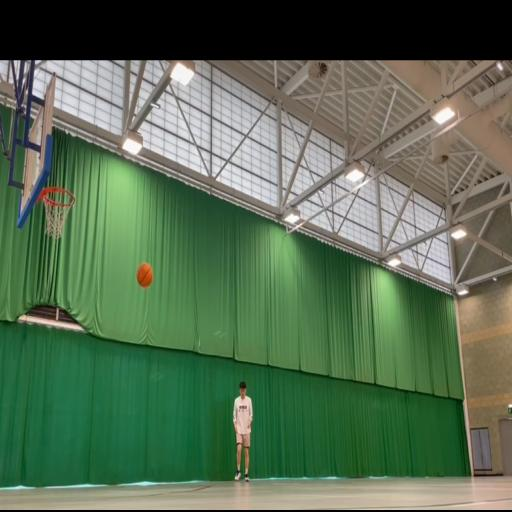hoops: (38, 181, 81, 244)
